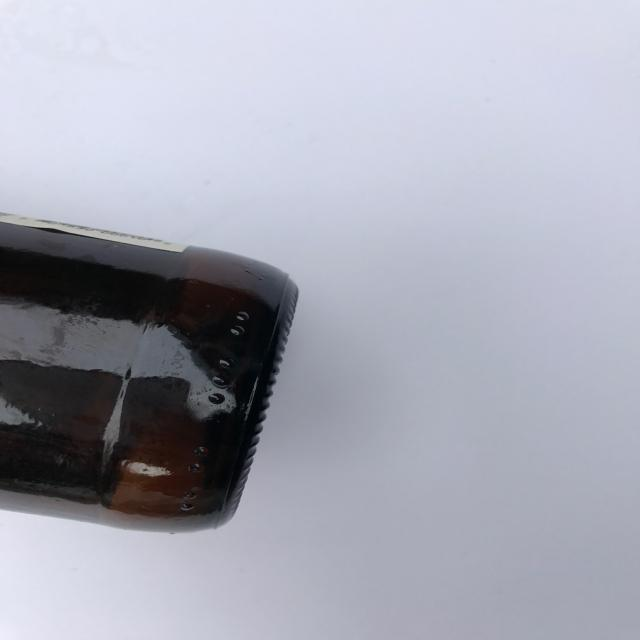glass: (0, 211, 302, 534)
